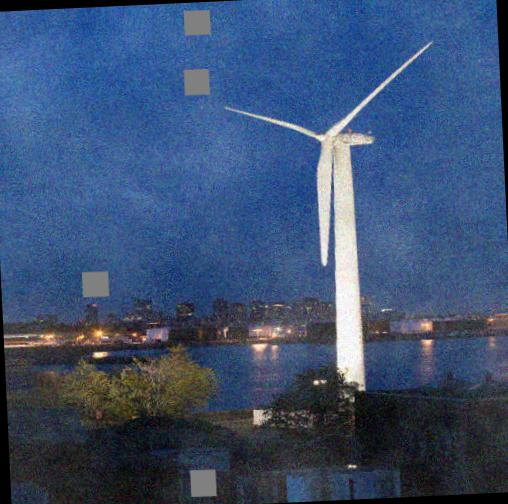wind turbine: (227, 37, 435, 391)
